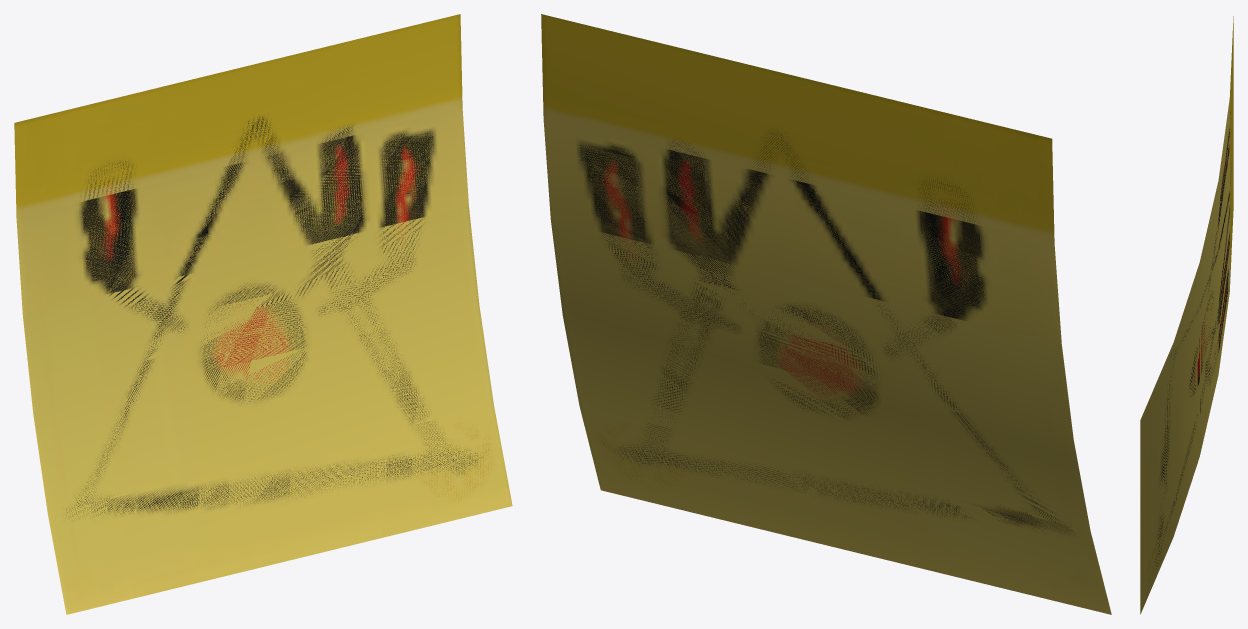
Rendered from notes_herber_postit_4.dae.
3 views of the same model, side by side, from view 1: azimuth 30°, elevation 25°; view 2: azimuth 150°, elevation 25°; view 3: azimuth 270°, elevation 25° (orthographic). The views are drawn at different scales.
Parts seen in each view (by area): view 1: postit_4; view 2: postit_4; view 3: postit_4.
Part boxes in pixels (x1,y1,x2,y2): postit_4: [14, 14, 512, 614]; postit_4: [541, 14, 1111, 614]; postit_4: [1140, 16, 1233, 614].
Size of the model in its own units: 0.0875 by 0.0851 by 0.0177.
